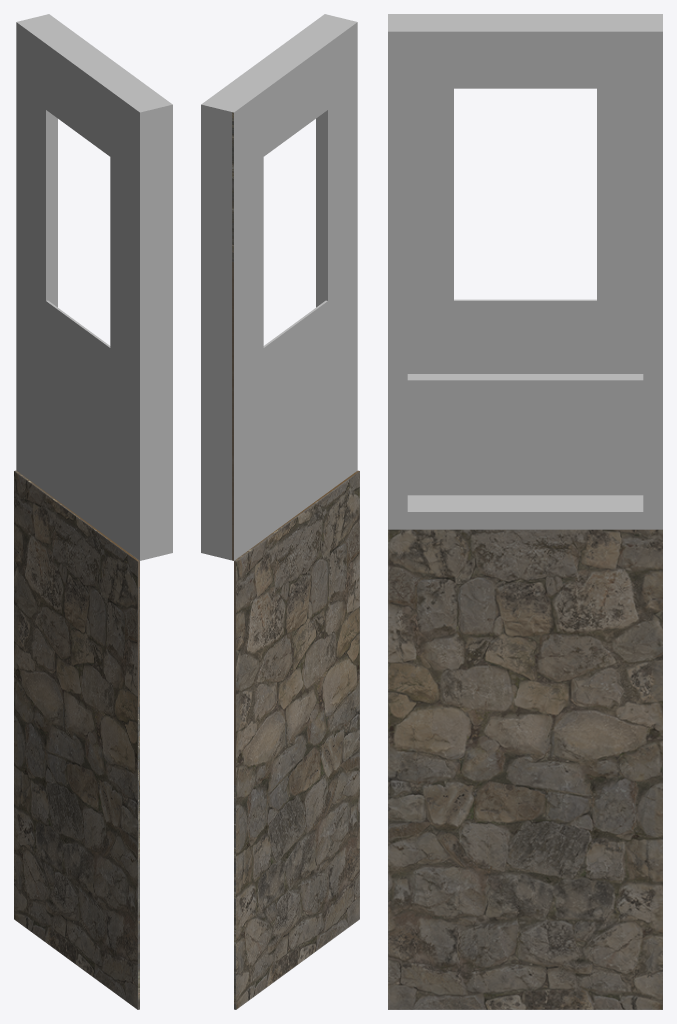
File: HouseWall_1x2_v1.fbx
3 views of the same model, side by side, from view 1: azimuth 30°, elevation 25°; view 2: azimuth 150°, elevation 25°; view 3: azimuth 270°, elevation 25° (orthographic). The views are drawn at different scales.
Parts seen in each view (by area): view 1: Plane.102; view 2: Plane.102; view 3: Plane.102.
Boxes of the visible parts, <box> form: Plane.102: <box>14,14,172,1009</box>; Plane.102: <box>201,14,359,1009</box>; Plane.102: <box>388,14,662,1009</box>.
Bounding box in the file's own units: 16.34 × 400 × 100.
